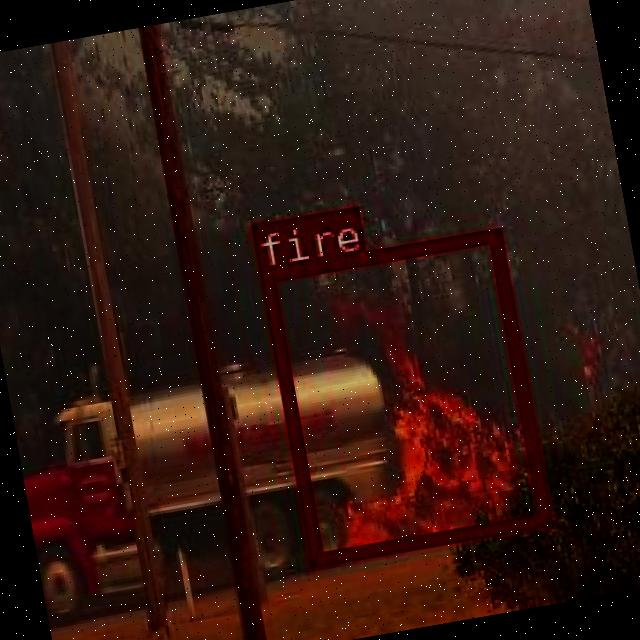fire: (256, 226, 549, 564)
